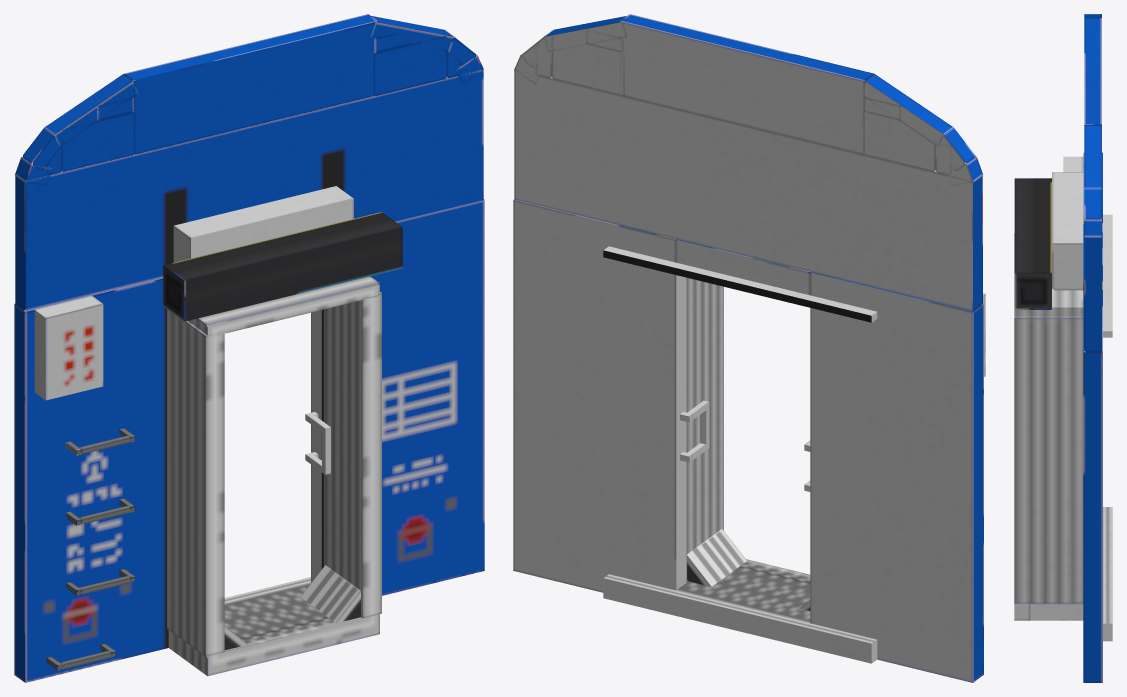
The model's file is end_face_sliding_original_25k_2.obj.
3 views of the same model, side by side, from view 1: azimuth 30°, elevation 25°; view 2: azimuth 150°, elevation 25°; view 3: azimuth 270°, elevation 25° (orthographic). The views are drawn at different scales.
Parts seen in each view (by area): view 1: cube; view 2: cube; view 3: cube.
Boxes of the visible parts, x1,y1,x2,y2 form: cube: (14,14,484,682); cube: (513,14,985,682); cube: (1014,14,1112,682).
Bounding box in the file's own units: 3 × 3.58 × 0.625.
